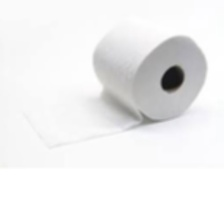tissue: (16, 20, 211, 151)
